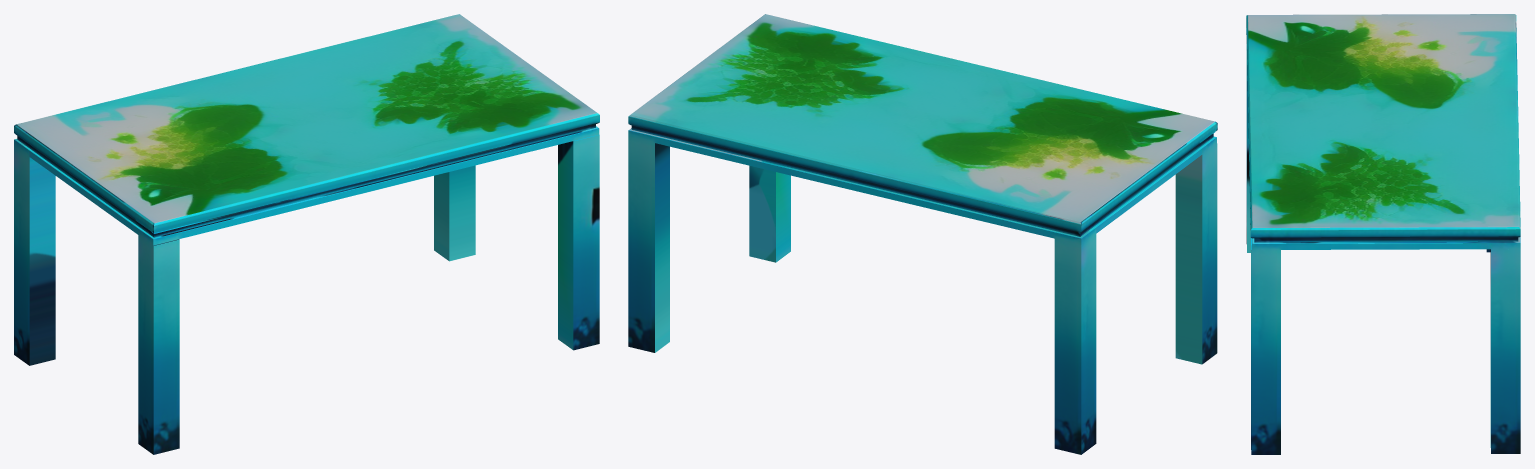
File: edited_mesh.glb
3 renders of one model, left to right at view 1: azimuth 30°, elevation 25°; view 2: azimuth 150°, elevation 25°; view 3: azimuth 270°, elevation 25°, orthographic. The views are drawn at different scales.
Parts seen in each view (by area): view 1: solid; view 2: solid; view 3: solid.
Part boxes in pixels (x1,y1,x2,y2): solid: (14, 14, 599, 454); solid: (628, 14, 1217, 454); solid: (1246, 14, 1520, 454).
Bounding box in the file's own units: 2 × 0.9799 × 1.08.
Materials: 1 (1 with a texture image).
